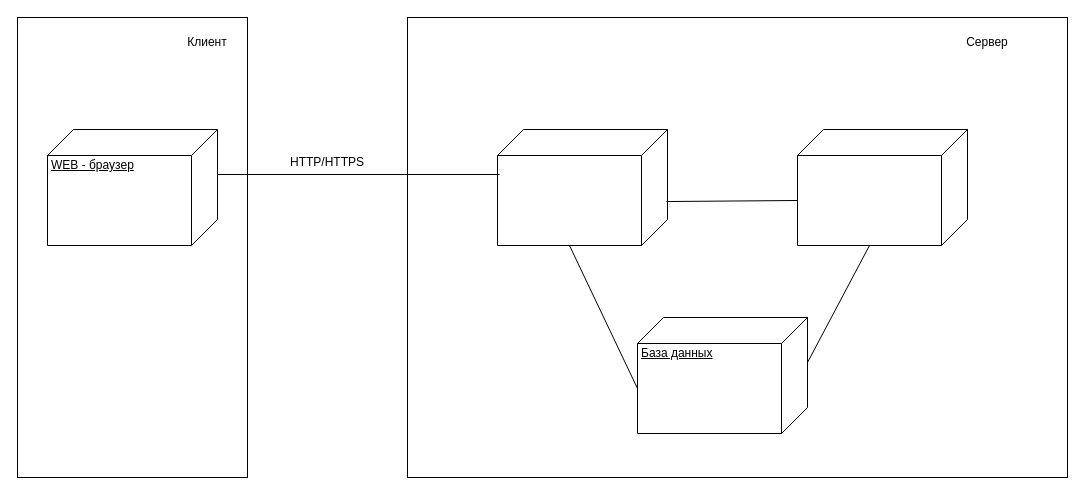
This 1085x495 diagram has some shape labels left out. Here are the shapes that lost their labels. From the top down, the centre of each, then its label:
At point 582,187: "WEB - интерфейс".
At point 882,187: "Модули отчетности и аналитики".
